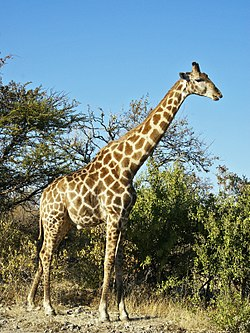Jirafa: (119, 46, 238, 151)
